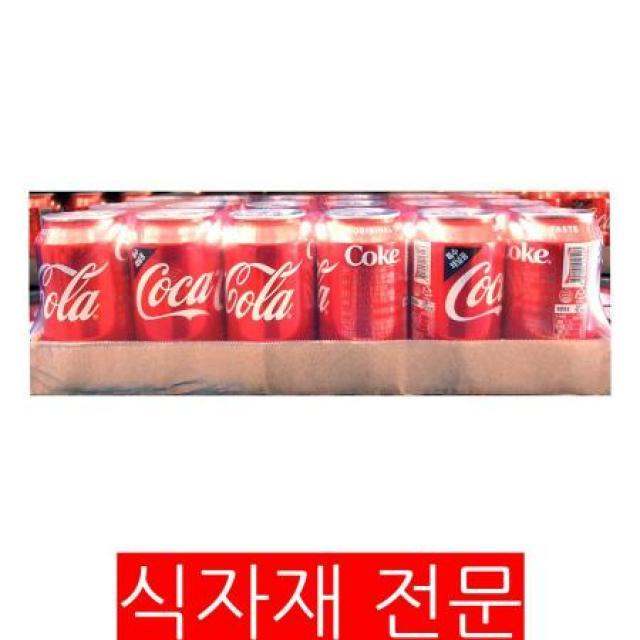coca-cola: (503, 208, 603, 340), (219, 209, 317, 341), (314, 208, 410, 340), (131, 210, 225, 342), (410, 207, 502, 341), (38, 214, 134, 342)
